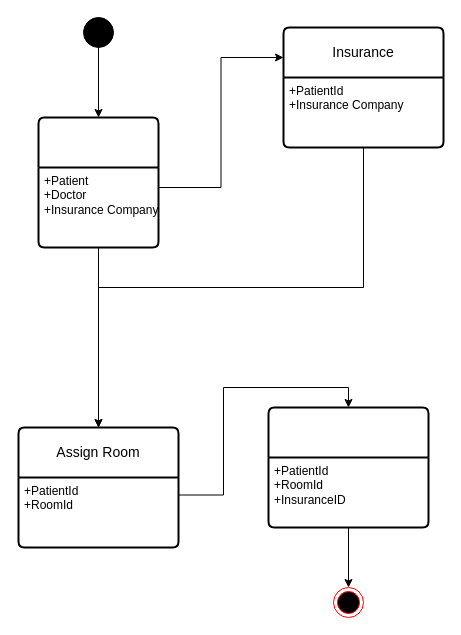
Some shapes in this 461 by 635 pixel diagram are drawn without their labels. The shapes that lost their labels are listed below. From the top down, each one's box as (x1, y1, x2, y2) in pixels, then its label:
(37, 116, 159, 248): Enter Patient Information
(267, 406, 429, 528): Print Admission
